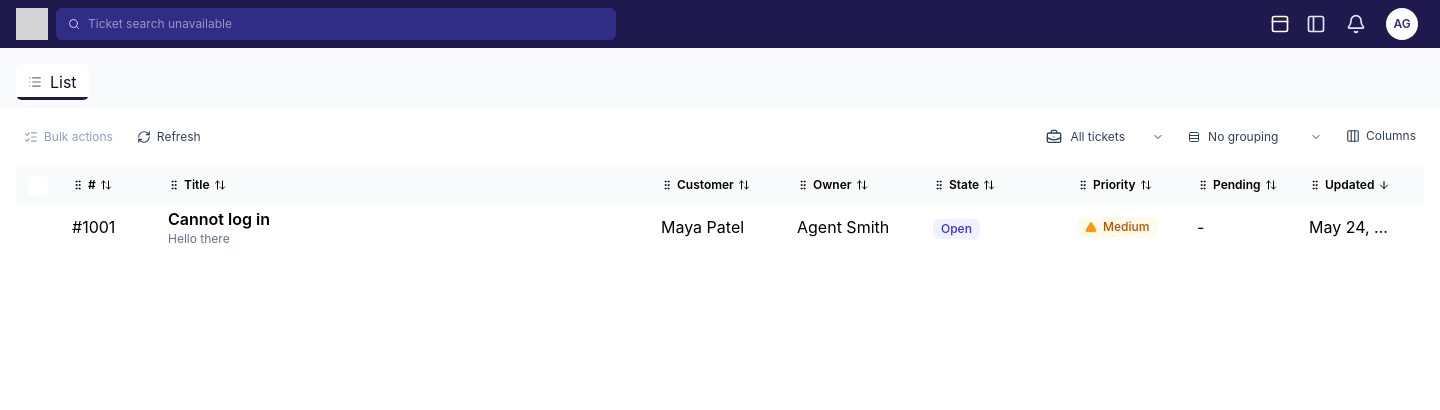
Test: TicketWorkspace provider grouping › shows a bucket pagination error only on the failed group
What coordinates should you click on to do the following:
click the dropdown named "Group tickets by"
I would click on:
 (1255, 136)
Its box is [1180, 124, 1330, 148].
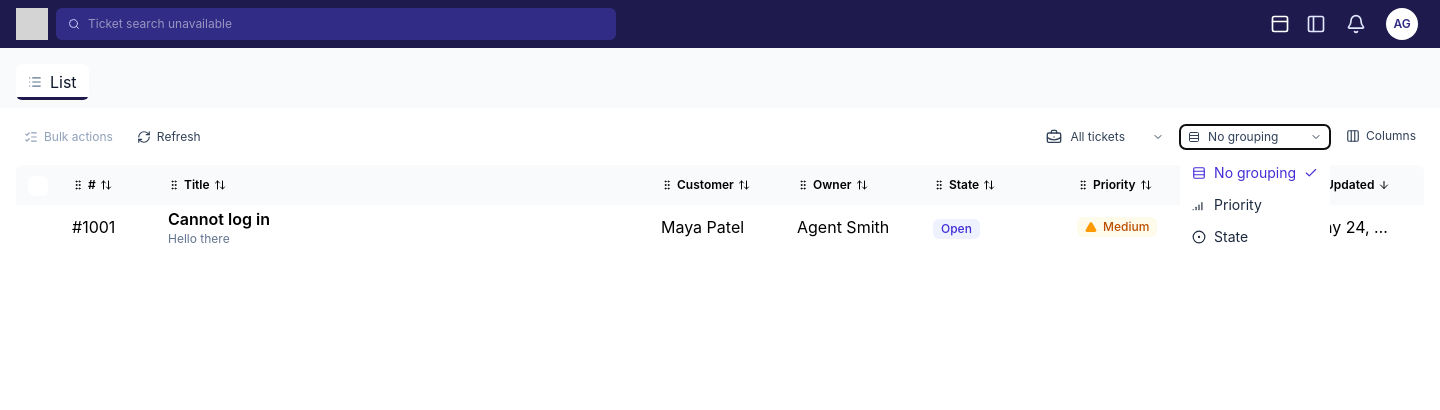
What coordinates should you click on to do the following:
click the option "Priority"
I would click on:
 (1255, 204)
Its box is [1184, 188, 1326, 220].
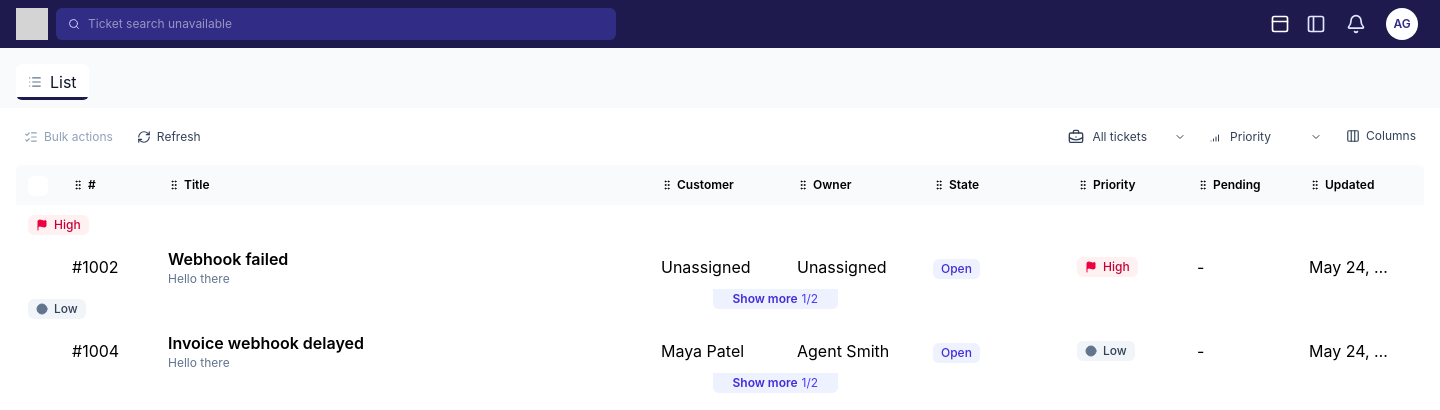
What coordinates should you click on to do the following:
click the button with aria-label "Show more High tickets (1/2)"
I would click on:
 (775, 299)
Its box is [712, 289, 838, 309].
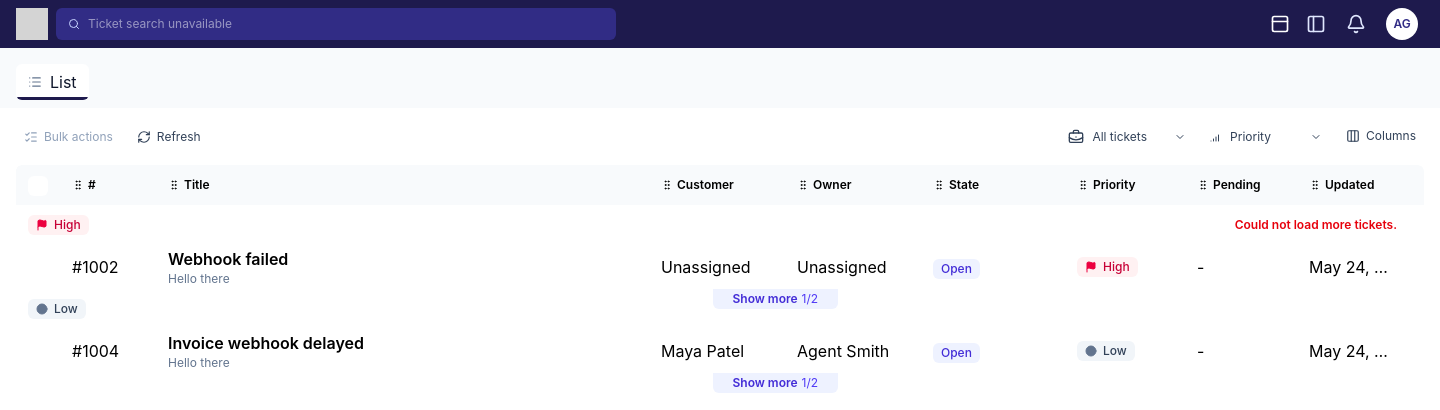
Result: the message reads "Could not load more tickets." at [1235, 217, 1397, 232]
